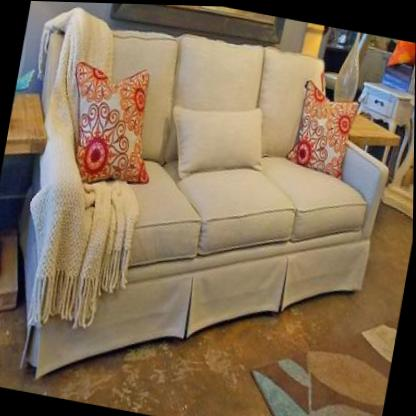Sofa: (0, 1, 410, 416)
